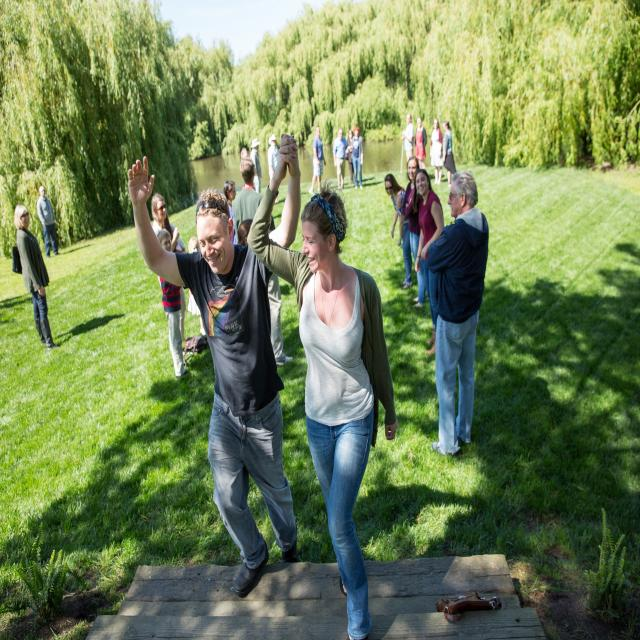body: (126, 126, 306, 599), (244, 128, 403, 640), (424, 168, 492, 462), (229, 156, 296, 368), (10, 202, 63, 352), (149, 190, 189, 344), (414, 168, 444, 356), (156, 228, 190, 380), (401, 155, 426, 309), (384, 172, 413, 287), (187, 235, 207, 335), (35, 184, 60, 260), (308, 125, 326, 196), (440, 119, 458, 187), (429, 118, 445, 186), (332, 128, 348, 190), (223, 179, 238, 245), (267, 133, 280, 205), (350, 125, 364, 191), (413, 116, 428, 170), (400, 112, 415, 164), (233, 216, 256, 248), (250, 138, 262, 194), (344, 129, 355, 187), (238, 142, 253, 174)
